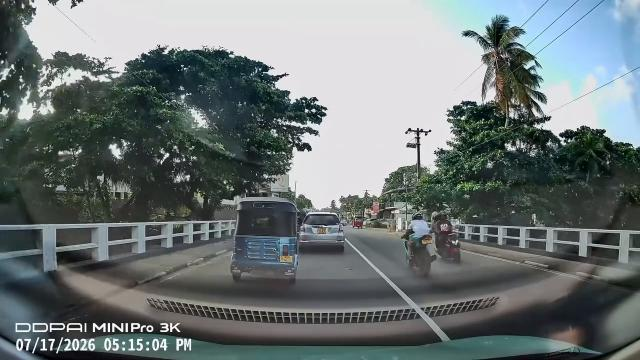illegal overtaking: (396, 211, 440, 284)
